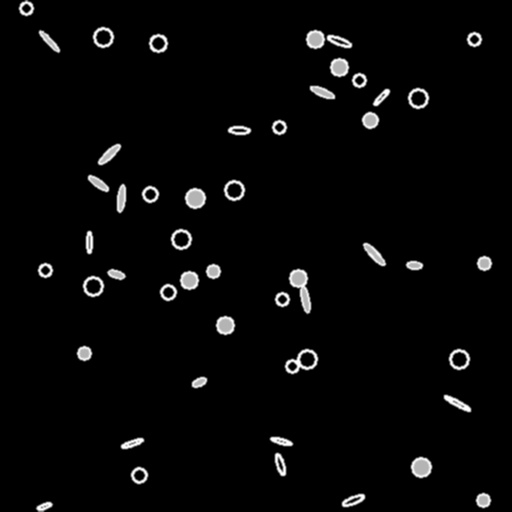pseudomonas: (361, 241, 387, 267), (38, 29, 60, 53), (97, 143, 121, 165), (443, 394, 471, 412), (326, 33, 352, 49), (309, 84, 335, 100), (87, 174, 109, 192), (273, 452, 287, 476), (372, 88, 390, 106), (342, 493, 364, 507), (120, 437, 144, 449), (116, 184, 126, 212), (300, 286, 310, 312), (107, 268, 125, 280), (271, 436, 291, 446), (191, 376, 207, 388), (229, 126, 249, 134), (36, 501, 52, 511), (406, 261, 422, 269), (86, 231, 92, 252)
synechocystis: (172, 230, 190, 248), (84, 277, 102, 295), (412, 458, 430, 476), (186, 189, 204, 207), (298, 350, 316, 368), (225, 181, 243, 199), (94, 28, 112, 46), (450, 350, 468, 368), (409, 89, 427, 107), (290, 270, 306, 286), (150, 35, 166, 51), (217, 317, 233, 333), (307, 31, 323, 47), (181, 272, 197, 288), (331, 59, 347, 75), (363, 113, 377, 127), (143, 187, 157, 201), (161, 285, 175, 299), (132, 468, 146, 482), (39, 264, 51, 276), (468, 33, 480, 45), (286, 360, 298, 372), (20, 2, 32, 14), (273, 121, 285, 133), (78, 347, 90, 359), (207, 265, 219, 277), (353, 74, 365, 86), (477, 494, 489, 506), (478, 257, 490, 269), (276, 293, 288, 305)
